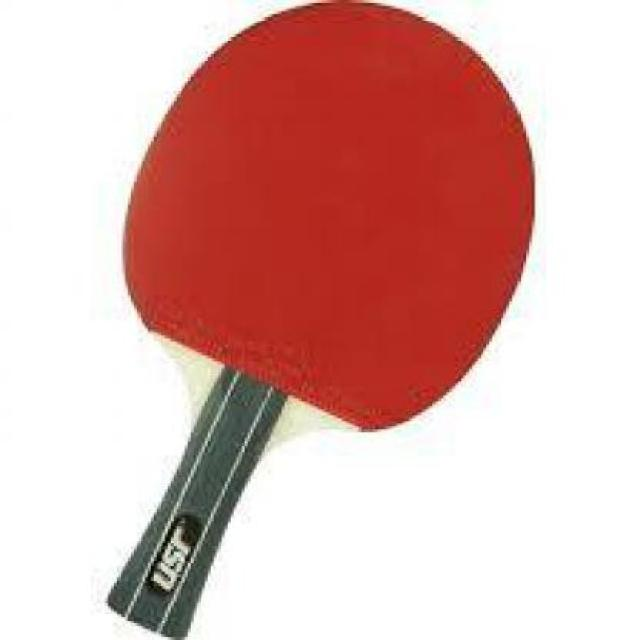table_tennis_racket: (116, 0, 538, 451)
